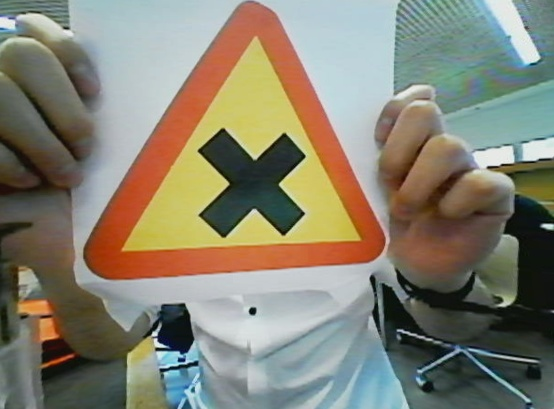junction: (73, 2, 391, 268)
